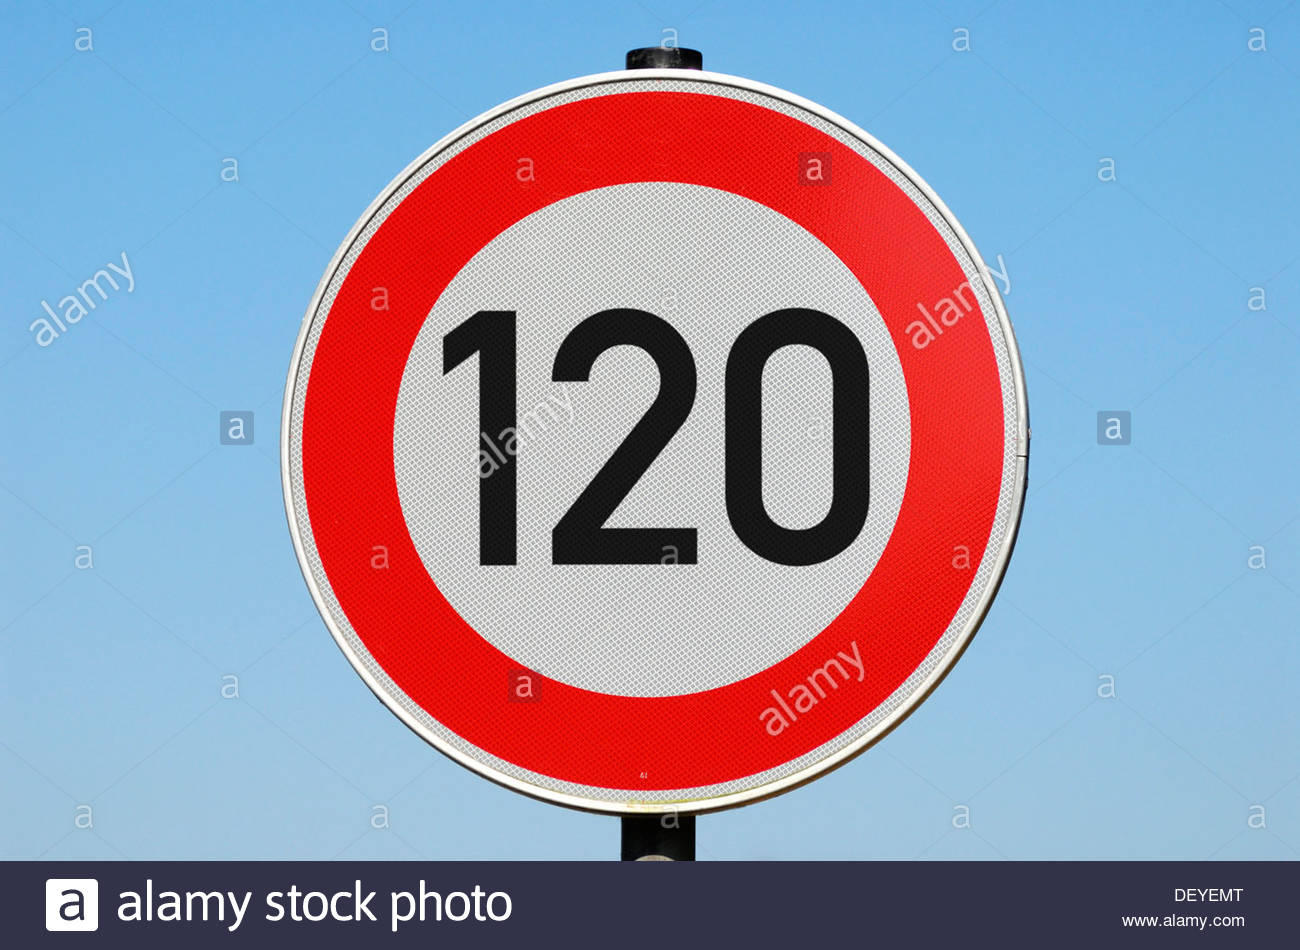Speed_limit_120km: (279, 67, 1038, 813)
